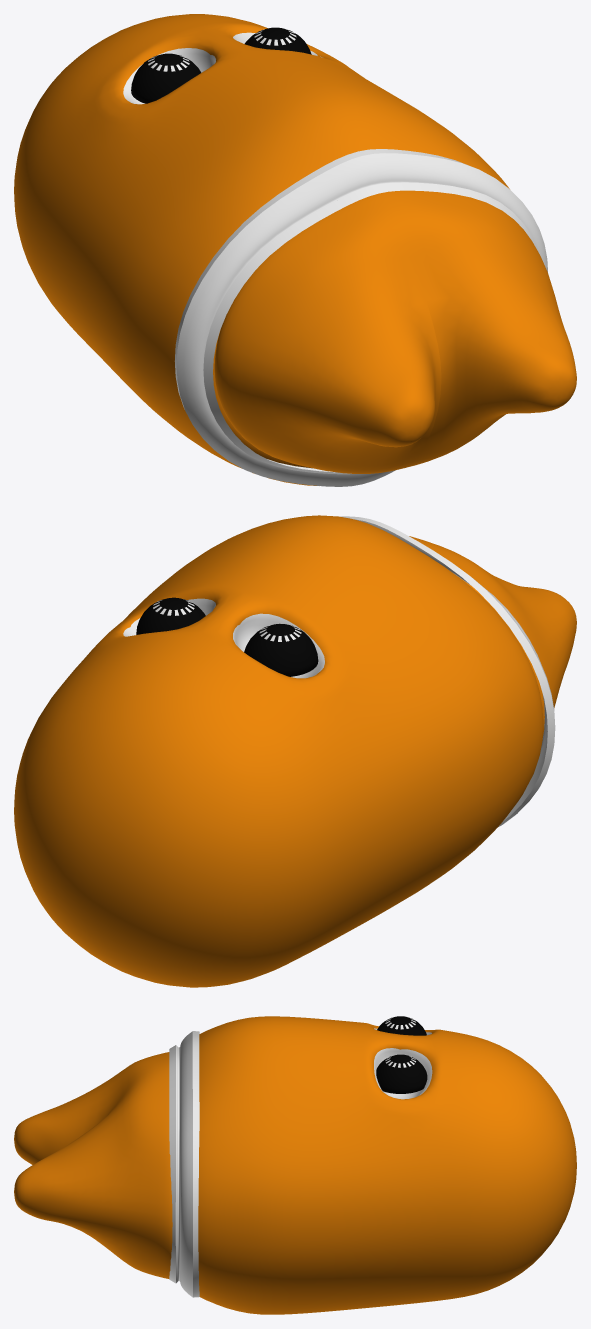
Rendered from Enchy.fbx.
The picture shows the model from 3 angles, top to bottom: view 1: azimuth 30°, elevation 25°; view 2: azimuth 150°, elevation 25°; view 3: azimuth 270°, elevation 25°; orthographic projection. The views are drawn at different scales.
Visible parts, largest first — view 1: EnchyBody, EnchBelt, EnchyEye; view 2: EnchyBody, EnchyEye, EnchBelt; view 3: EnchyBody, EnchBelt, EnchyEye.
Part boxes in pixels (x1=…): EnchyBody: x1=14, y1=14, x2=576, y2=485; EnchBelt: x1=174, y1=149, x2=547, y2=486; EnchyEye: x1=131, y1=27, x2=311, y2=103; EnchyBody: x1=14, y1=515, x2=576, y2=987; EnchyEye: x1=136, y1=597, x2=318, y2=676; EnchBelt: x1=341, y1=516, x2=555, y2=826; EnchyBody: x1=14, y1=1016, x2=576, y2=1314; EnchBelt: x1=169, y1=1031, x2=199, y2=1297; EnchyEye: x1=376, y1=1016, x2=427, y2=1093.
Size of the model in its own units: 129 by 124 by 226.
